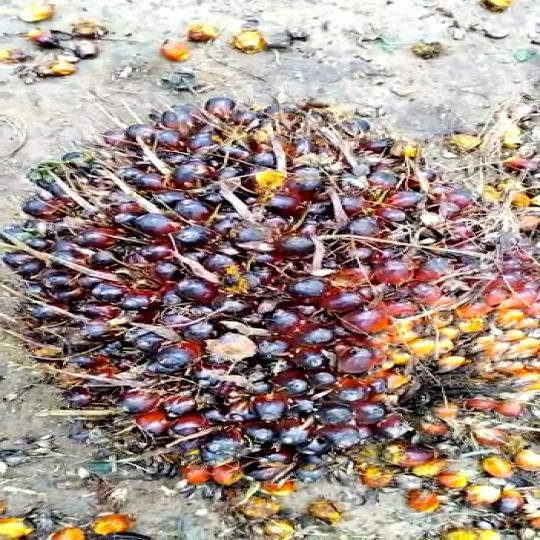kurang masak: (0, 82, 540, 501)
